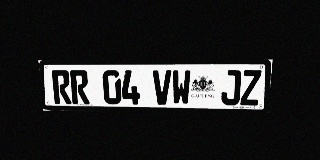0: (102, 70, 122, 104)
4: (121, 70, 140, 104)
J: (221, 70, 241, 105)
R: (51, 70, 72, 104), (70, 70, 90, 104)
V: (153, 70, 171, 105)
W: (172, 70, 191, 105)
Z: (240, 70, 262, 105)
